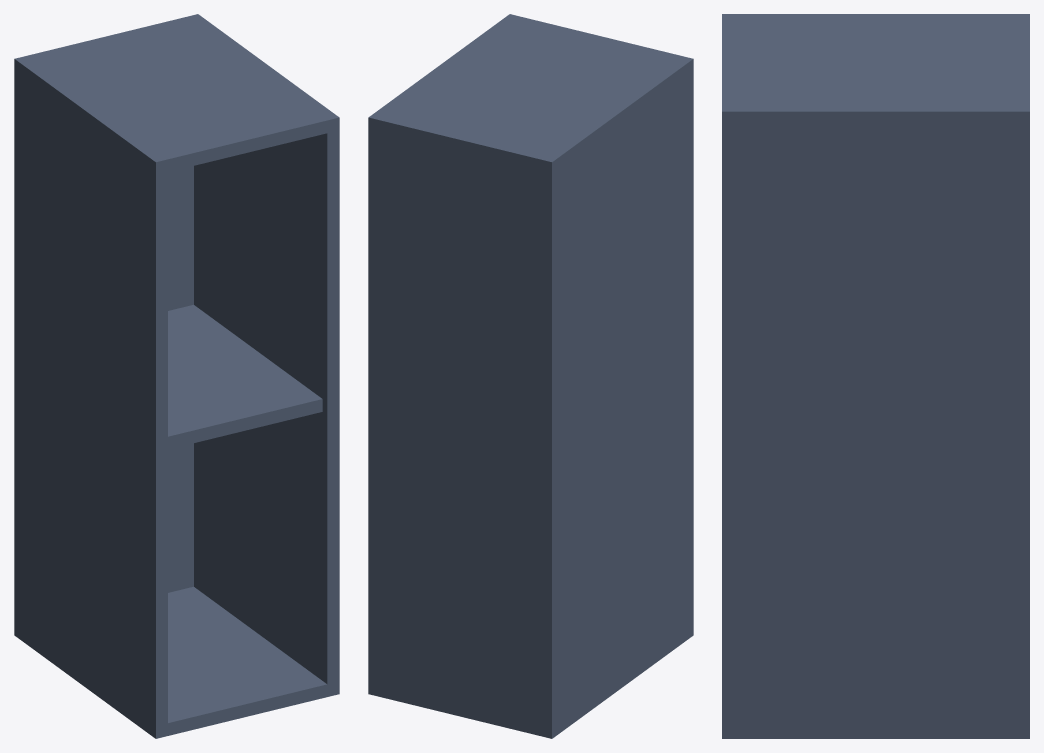
File: Kitchen1_C4_10.fbx
3 views of the same model, side by side, from view 1: azimuth 30°, elevation 25°; view 2: azimuth 150°, elevation 25°; view 3: azimuth 270°, elevation 25° (orthographic). The views are drawn at different scales.
Parts seen in each view (by area): view 1: Kitchen1_C4_10; view 2: Kitchen1_C4_10; view 3: Kitchen1_C4_10.
Boxes of the visible parts, x1=… form: Kitchen1_C4_10: x1=14, y1=14, x2=339, y2=738; Kitchen1_C4_10: x1=368, y1=14, x2=693, y2=738; Kitchen1_C4_10: x1=722, y1=14, x2=1029, y2=738.
Bounding box in the file's own units: 30 × 90 × 40.
